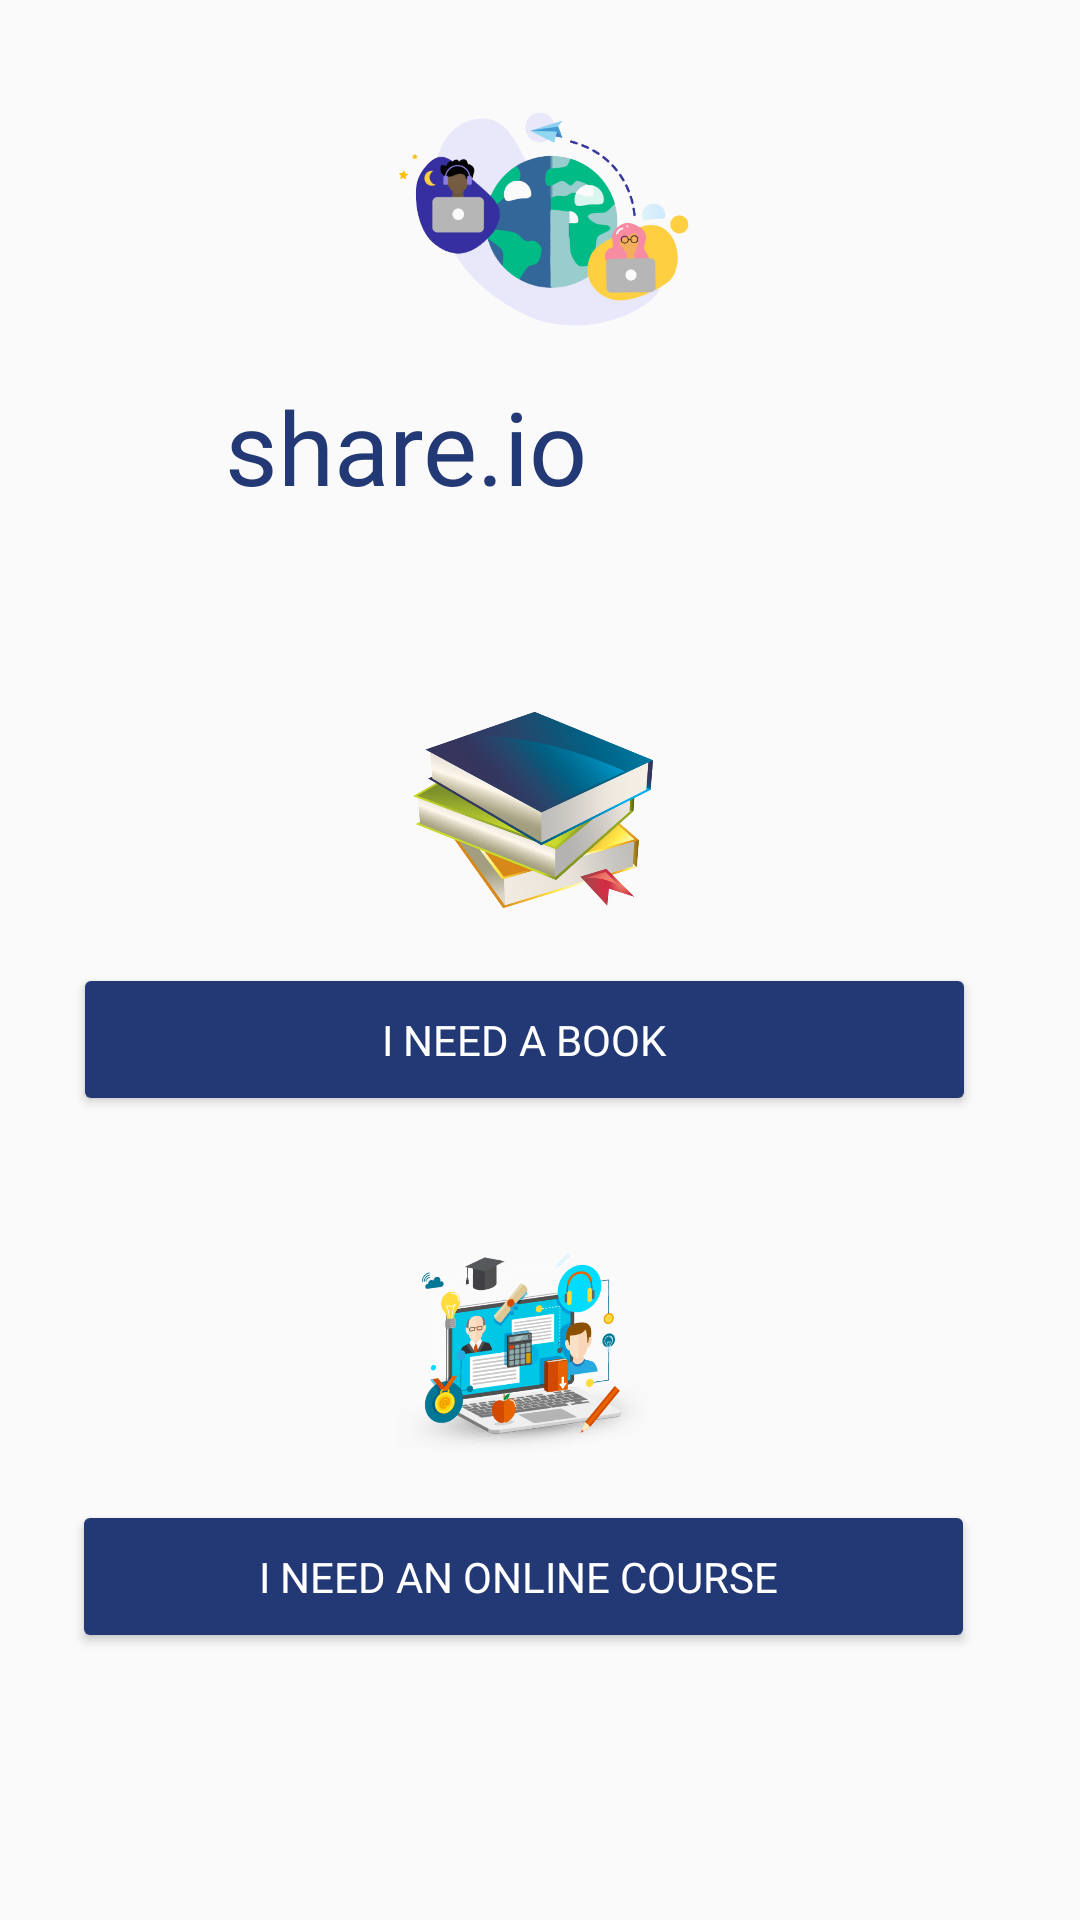

Where to tap for icons on this 1080px×1920px app screen, as point (x, y):
bookimage: point (533, 810)
courseimage: point (521, 1346)
